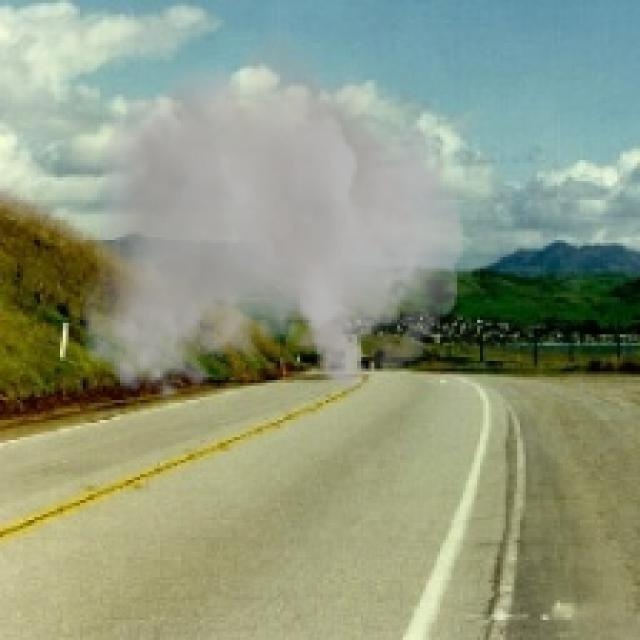Smoke: (80, 14, 463, 403)
